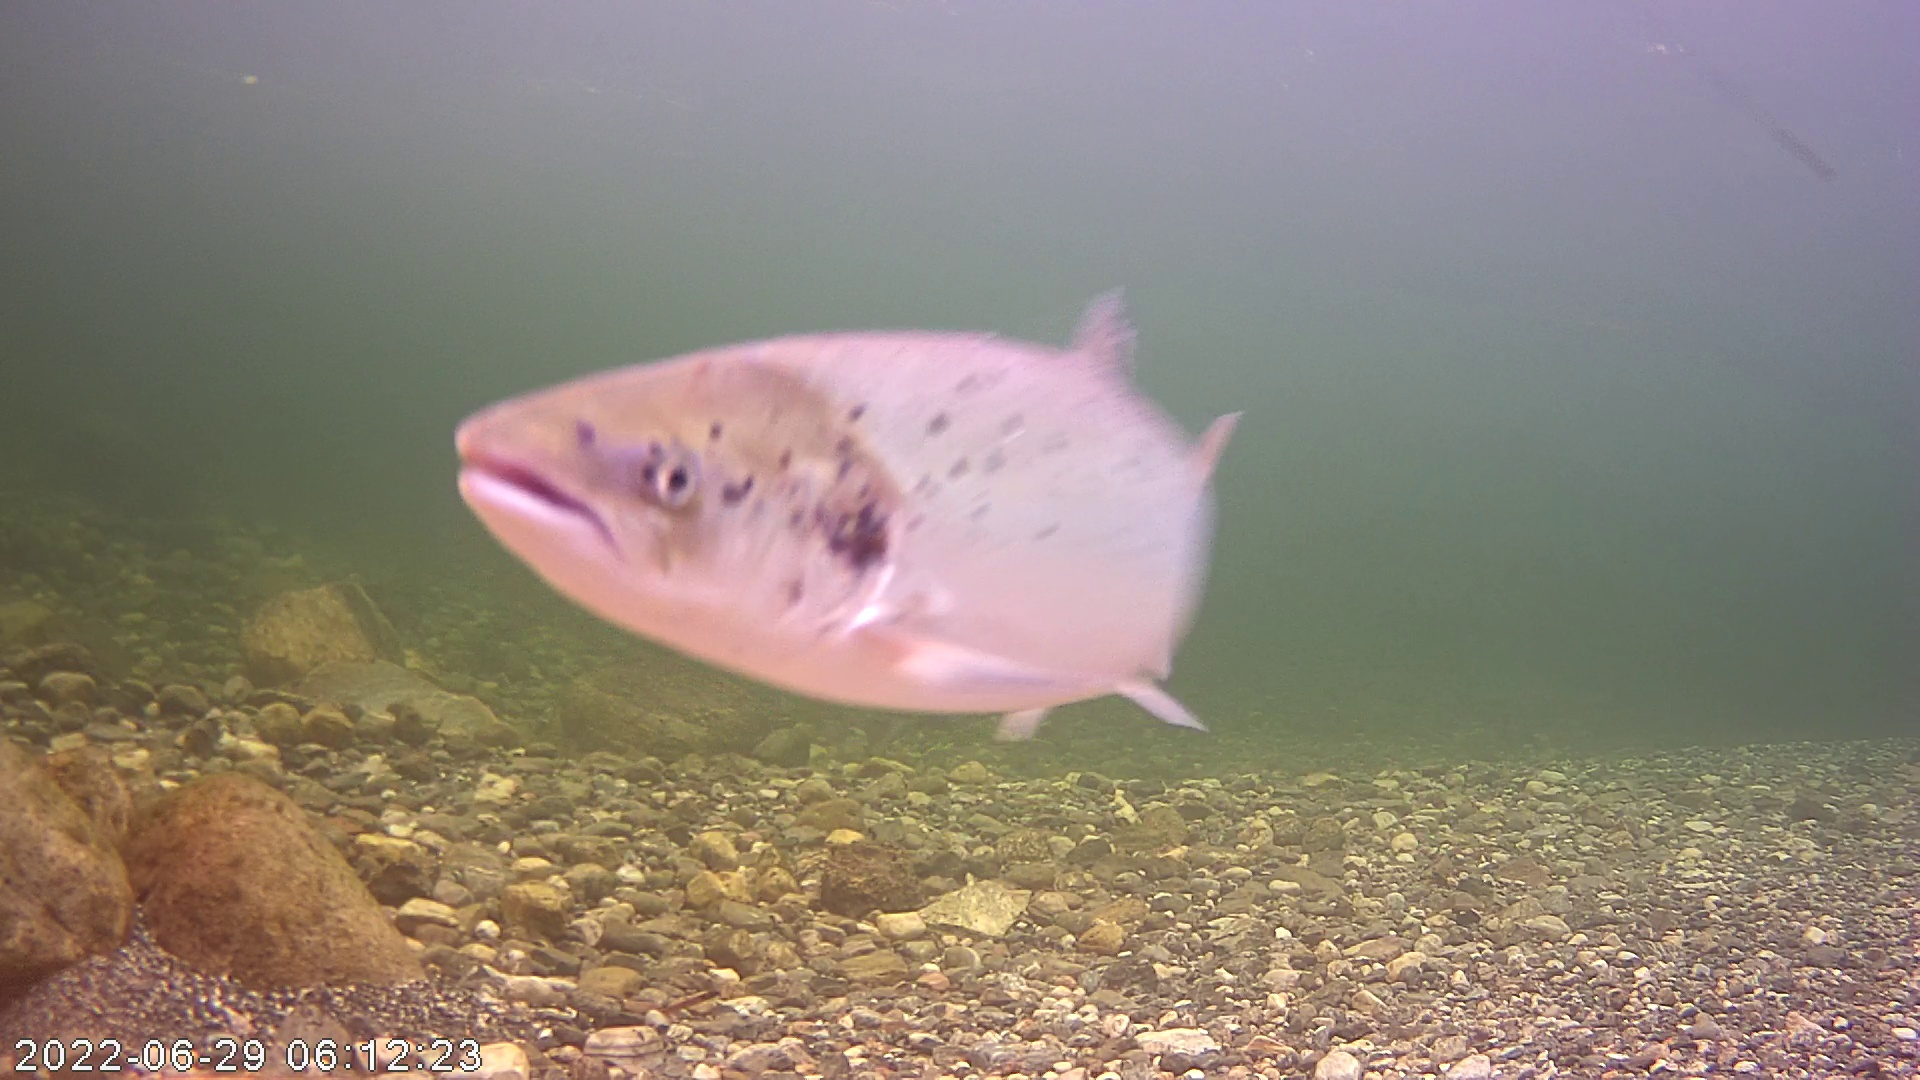salmon: (446, 222, 1251, 731)
